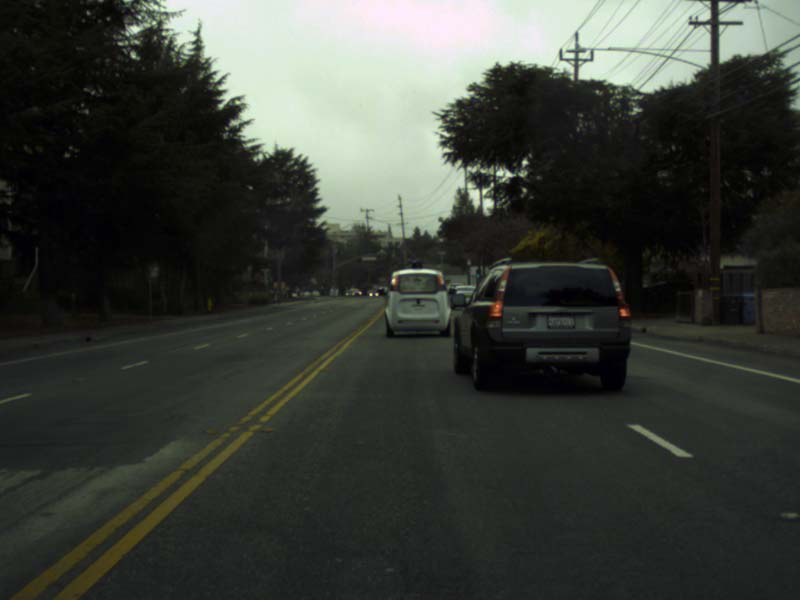Green: (476, 268, 481, 285), (407, 259, 412, 274), (393, 259, 398, 274)
